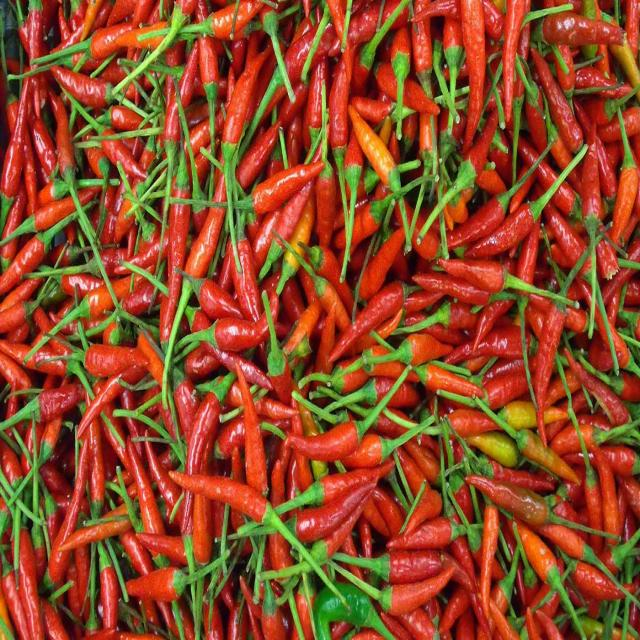chilli: (172, 465, 268, 523), (463, 467, 549, 526), (297, 478, 380, 537), (219, 53, 263, 157), (286, 416, 366, 468), (532, 299, 566, 421), (246, 161, 320, 213), (539, 8, 626, 52), (346, 278, 411, 333), (200, 309, 267, 354), (580, 123, 604, 242), (123, 565, 189, 606), (441, 254, 508, 294), (415, 359, 477, 401), (80, 344, 150, 381), (48, 63, 108, 106), (389, 515, 453, 553), (329, 51, 349, 170)
